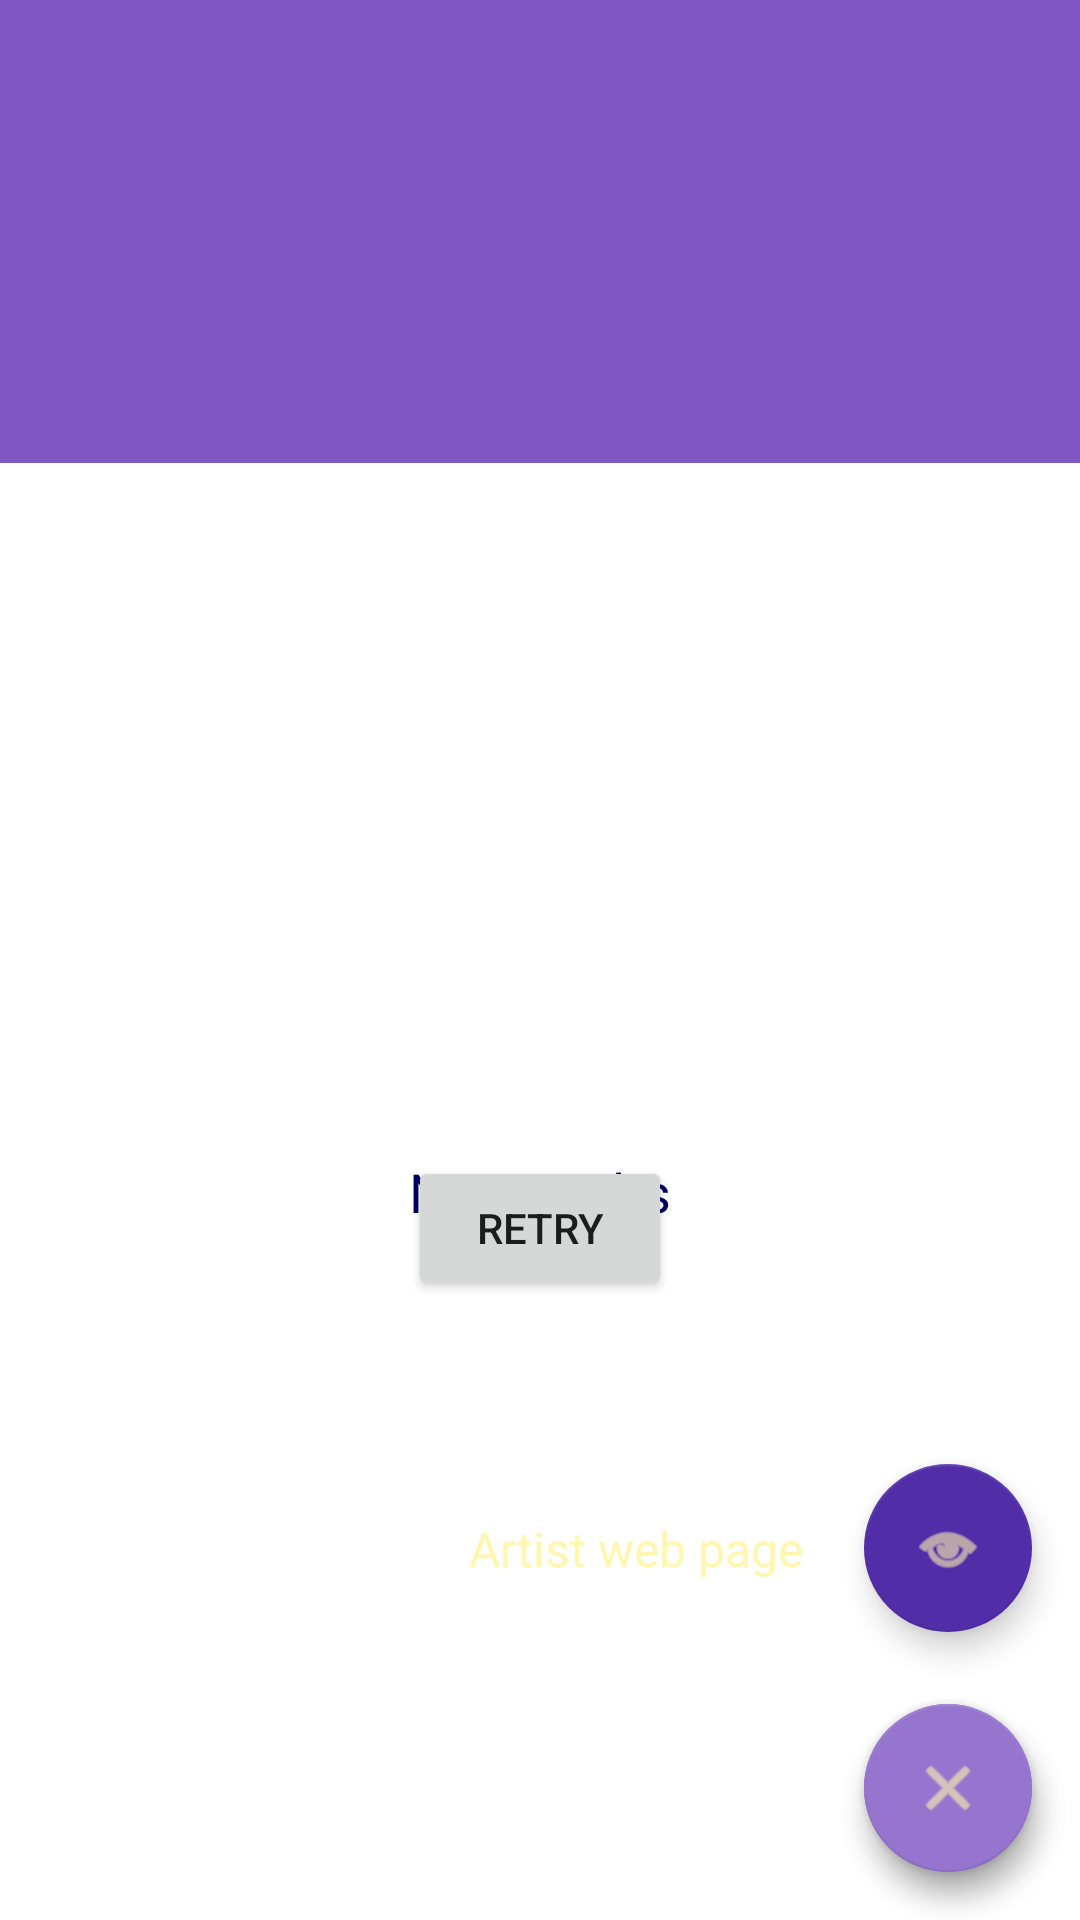

Point at icon controls on the screen. Image size 1080*1920, points as [x,y].
view: [948,1548]
